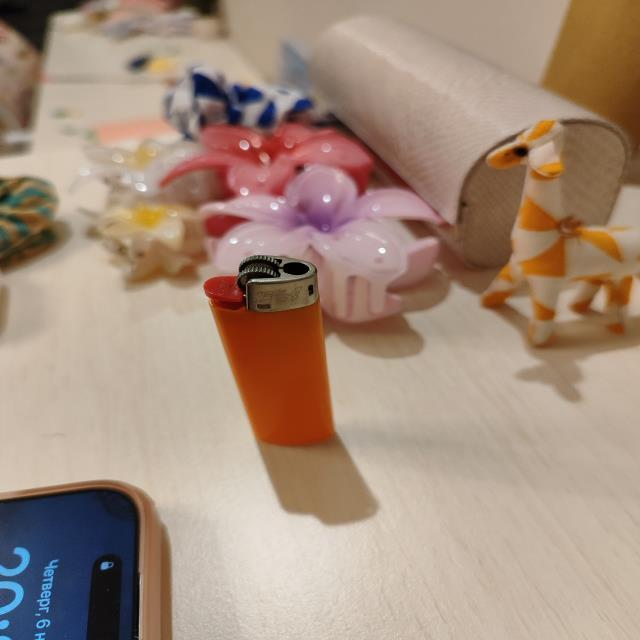lighter: (204, 256, 334, 445)
